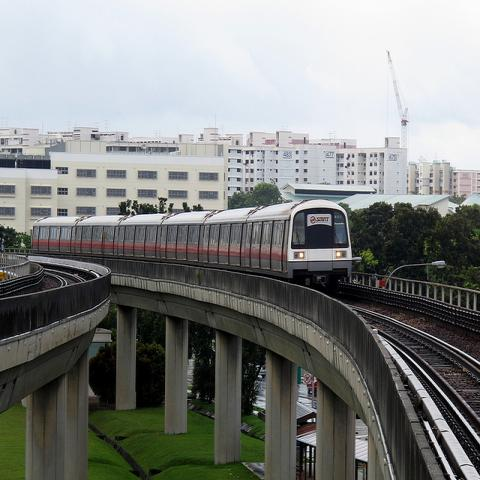car: (307, 377, 317, 394)
